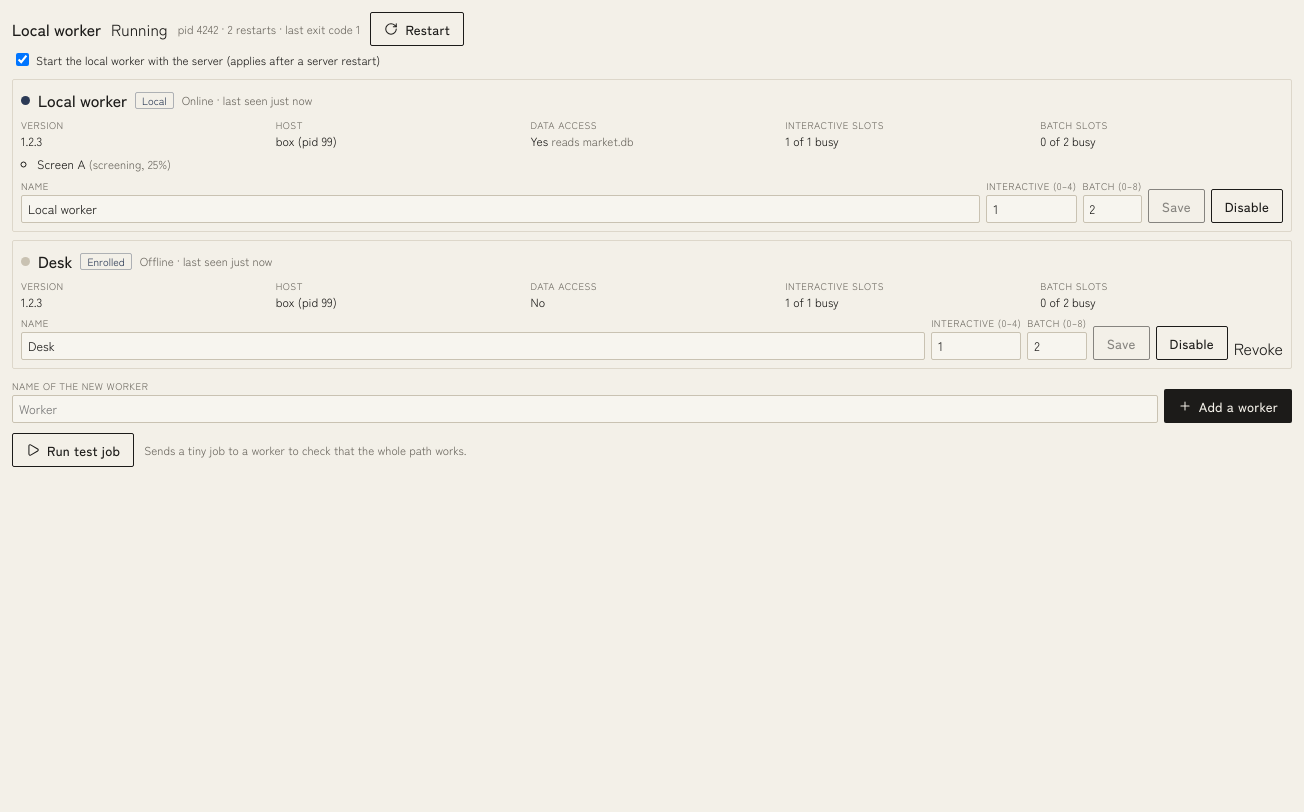
WorkersPanel › creates an enrollment and shows the command
Check: the text "Desk" is shown, box [38, 249, 72, 273]
Type "Laptop" into the field with placeholder "worker".
click(585, 409); type("Laptop")  # box [12, 395, 1158, 423]
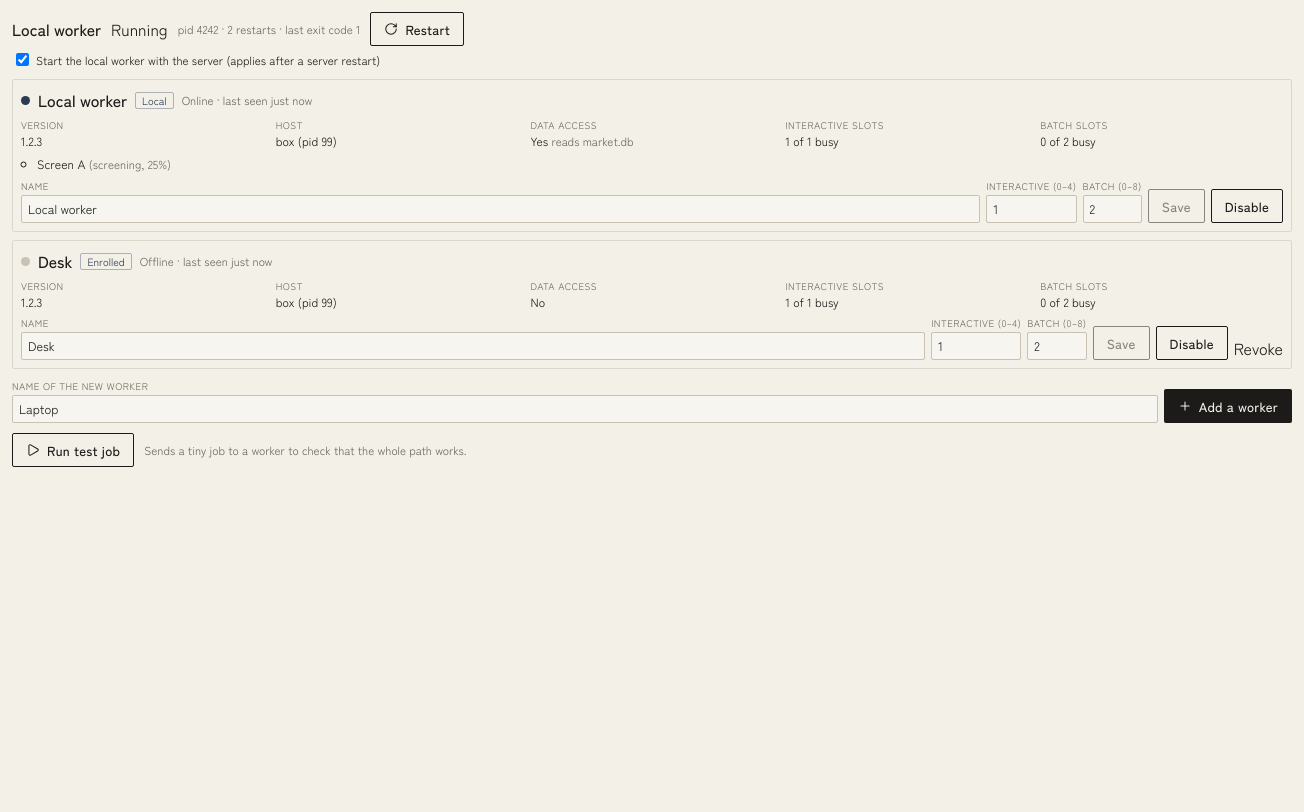
Click the button "Add a worker".
click(1228, 406)  # box [1164, 389, 1292, 423]
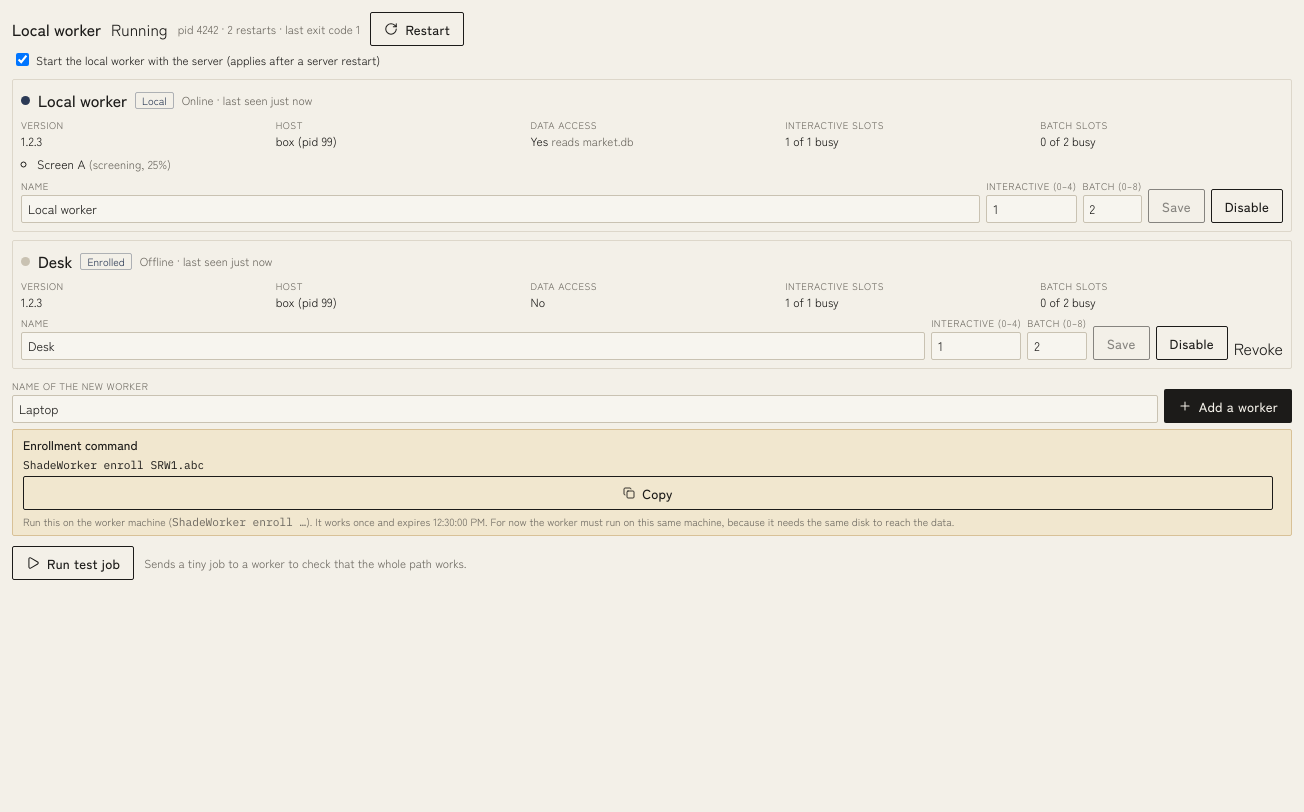
Check: the text "ShadeWorker enroll SRW1.abc" is shown, box [23, 458, 204, 472]
Check: the button "Copy" is shown, box [23, 476, 1273, 510]
